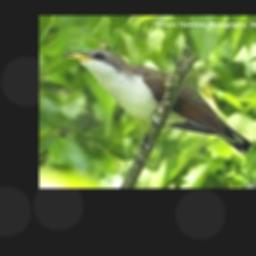Cuckoo: (63, 49, 256, 172)
